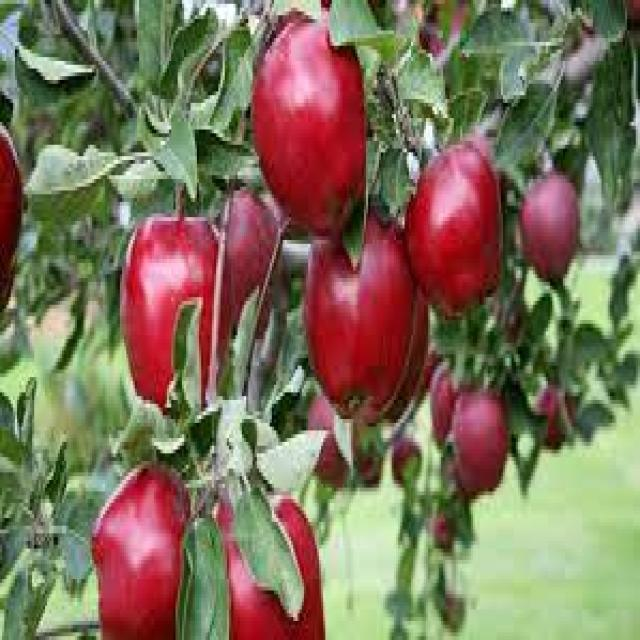Apple: (250, 12, 366, 236), (302, 206, 414, 420), (118, 210, 227, 412), (402, 134, 503, 316), (90, 461, 190, 636), (212, 488, 326, 636), (213, 186, 280, 340), (518, 168, 578, 282), (448, 384, 508, 496), (0, 121, 21, 312)
